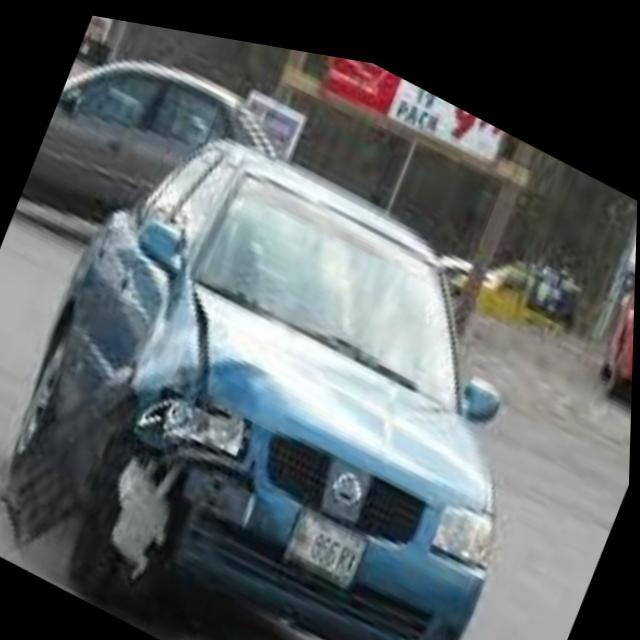dislocated part: (17, 287, 270, 565)
